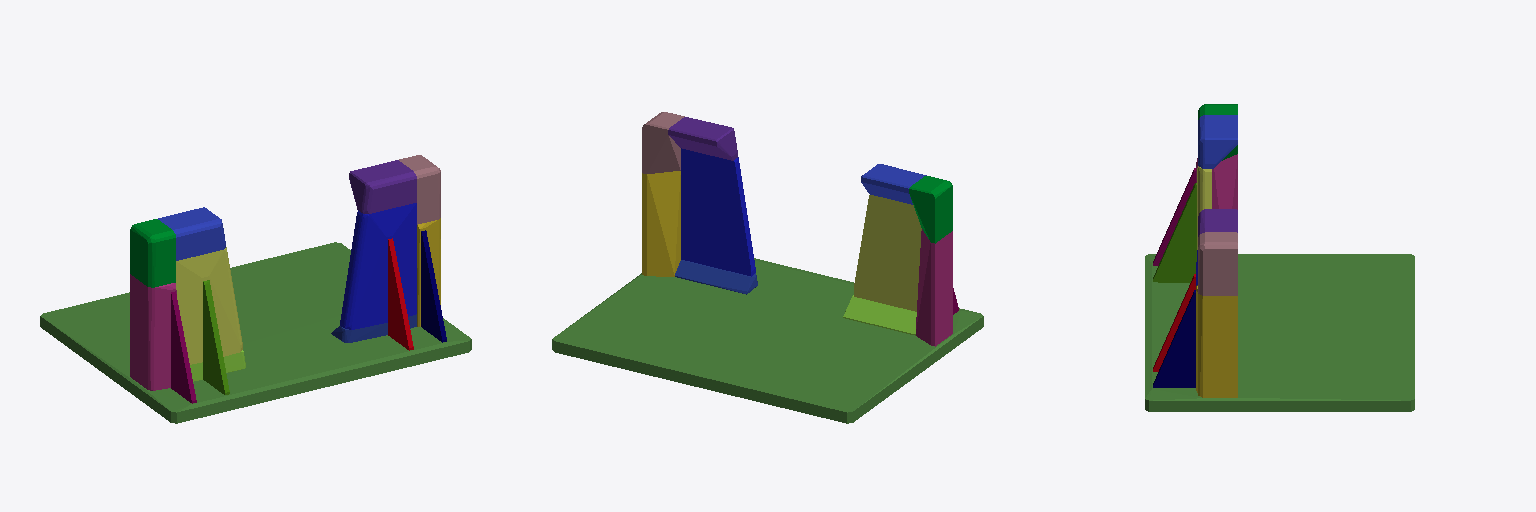
The model's file is Rack.obj.
3 views of the same model, side by side, from view 1: azimuth 30°, elevation 25°; view 2: azimuth 150°, elevation 25°; view 3: azimuth 270°, elevation 25° (orthographic).
Parts seen in each view (by area): view 1: Shape_IndexedFaceSet_Shape_IndexedFaceSet.101, Shape_IndexedFaceSet.009_Shape_IndexedFaceSet.110, Shape_IndexedFaceSet.005_Shape_IndexedFaceSet.106, Shape_IndexedFaceSet.004_Shape_IndexedFaceSet.105, Shape_IndexedFaceSet.010_Shape_IndexedFaceSet.111, Shape_IndexedFaceSet.001_Shape_IndexedFaceSet.102, Shape_IndexedFaceSet.006_Shape_IndexedFaceSet.107, Shape_IndexedFaceSet.011_Shape_IndexedFaceSet.112, Shape_IndexedFaceSet.002_Shape_IndexedFaceSet.103, Shape_IndexedFaceSet.007_Shape_IndexedFaceSet.108, Shape_IndexedFaceSet.013_Shape_IndexedFaceSet.114, Shape_IndexedFaceSet.003_Shape_IndexedFaceSet.104 (+3 smaller); view 2: Shape_IndexedFaceSet_Shape_IndexedFaceSet.101, Shape_IndexedFaceSet.009_Shape_IndexedFaceSet.110, Shape_IndexedFaceSet.005_Shape_IndexedFaceSet.106, Shape_IndexedFaceSet.008_Shape_IndexedFaceSet.109, Shape_IndexedFaceSet.004_Shape_IndexedFaceSet.105, Shape_IndexedFaceSet.001_Shape_IndexedFaceSet.102, Shape_IndexedFaceSet.010_Shape_IndexedFaceSet.111, Shape_IndexedFaceSet.002_Shape_IndexedFaceSet.103, Shape_IndexedFaceSet.012_Shape_IndexedFaceSet.113, Shape_IndexedFaceSet.006_Shape_IndexedFaceSet.107, Shape_IndexedFaceSet.014_Shape_IndexedFaceSet.115; view 3: Shape_IndexedFaceSet_Shape_IndexedFaceSet.101, Shape_IndexedFaceSet.008_Shape_IndexedFaceSet.109, Shape_IndexedFaceSet.002_Shape_IndexedFaceSet.103, Shape_IndexedFaceSet.011_Shape_IndexedFaceSet.112, Shape_IndexedFaceSet.007_Shape_IndexedFaceSet.108, Shape_IndexedFaceSet.006_Shape_IndexedFaceSet.107, Shape_IndexedFaceSet.004_Shape_IndexedFaceSet.105, Shape_IndexedFaceSet.010_Shape_IndexedFaceSet.111, Shape_IndexedFaceSet.005_Shape_IndexedFaceSet.106, Shape_IndexedFaceSet.003_Shape_IndexedFaceSet.104, Shape_IndexedFaceSet.013_Shape_IndexedFaceSet.114.
Part boxes in pixels (left/top/right/bottom): Shape_IndexedFaceSet_Shape_IndexedFaceSet.101: left=40, top=242, right=471, bottom=423; Shape_IndexedFaceSet.009_Shape_IndexedFaceSet.110: left=340, top=203, right=416, bottom=329; Shape_IndexedFaceSet.005_Shape_IndexedFaceSet.106: left=176, top=247, right=242, bottom=364; Shape_IndexedFaceSet.004_Shape_IndexedFaceSet.105: left=130, top=274, right=176, bottom=390; Shape_IndexedFaceSet.010_Shape_IndexedFaceSet.111: left=349, top=160, right=416, bottom=213; Shape_IndexedFaceSet.001_Shape_IndexedFaceSet.102: left=130, top=219, right=175, bottom=287; Shape_IndexedFaceSet.006_Shape_IndexedFaceSet.107: left=158, top=207, right=225, bottom=260; Shape_IndexedFaceSet.011_Shape_IndexedFaceSet.112: left=203, top=280, right=229, bottom=394; Shape_IndexedFaceSet.002_Shape_IndexedFaceSet.103: left=399, top=155, right=440, bottom=224; Shape_IndexedFaceSet.007_Shape_IndexedFaceSet.108: left=421, top=230, right=446, bottom=342; Shape_IndexedFaceSet.013_Shape_IndexedFaceSet.114: left=388, top=238, right=413, bottom=350; Shape_IndexedFaceSet.003_Shape_IndexedFaceSet.104: left=171, top=291, right=196, bottom=403; Shape_IndexedFaceSet_Shape_IndexedFaceSet.101: left=552, top=258, right=983, bottom=423; Shape_IndexedFaceSet.009_Shape_IndexedFaceSet.110: left=681, top=148, right=755, bottom=276; Shape_IndexedFaceSet.005_Shape_IndexedFaceSet.106: left=854, top=195, right=921, bottom=311; Shape_IndexedFaceSet.008_Shape_IndexedFaceSet.109: left=642, top=171, right=680, bottom=276; Shape_IndexedFaceSet.004_Shape_IndexedFaceSet.105: left=916, top=229, right=952, bottom=346; Shape_IndexedFaceSet.001_Shape_IndexedFaceSet.102: left=909, top=176, right=952, bottom=243; Shape_IndexedFaceSet.010_Shape_IndexedFaceSet.111: left=668, top=117, right=737, bottom=160; Shape_IndexedFaceSet.002_Shape_IndexedFaceSet.103: left=642, top=112, right=684, bottom=173; Shape_IndexedFaceSet.012_Shape_IndexedFaceSet.113: left=843, top=295, right=916, bottom=335; Shape_IndexedFaceSet.006_Shape_IndexedFaceSet.107: left=861, top=164, right=926, bottom=204; Shape_IndexedFaceSet.014_Shape_IndexedFaceSet.115: left=675, top=260, right=757, bottom=294; Shape_IndexedFaceSet_Shape_IndexedFaceSet.101: left=1145, top=254, right=1414, bottom=411; Shape_IndexedFaceSet.008_Shape_IndexedFaceSet.109: left=1196, top=285, right=1237, bottom=397; Shape_IndexedFaceSet.002_Shape_IndexedFaceSet.103: left=1198, top=232, right=1237, bottom=295; Shape_IndexedFaceSet.011_Shape_IndexedFaceSet.112: left=1153, top=183, right=1196, bottom=282; Shape_IndexedFaceSet.007_Shape_IndexedFaceSet.108: left=1153, top=290, right=1195, bottom=387; Shape_IndexedFaceSet.006_Shape_IndexedFaceSet.107: left=1198, top=115, right=1237, bottom=168; Shape_IndexedFaceSet.004_Shape_IndexedFaceSet.105: left=1196, top=154, right=1237, bottom=209; Shape_IndexedFaceSet.010_Shape_IndexedFaceSet.111: left=1198, top=209, right=1237, bottom=236; Shape_IndexedFaceSet.005_Shape_IndexedFaceSet.106: left=1197, top=166, right=1211, bottom=249; Shape_IndexedFaceSet.003_Shape_IndexedFaceSet.104: left=1153, top=168, right=1195, bottom=265; Shape_IndexedFaceSet.013_Shape_IndexedFaceSet.114: left=1153, top=274, right=1195, bottom=371.
Size of the model in its own units: 0.0904 by 0.0475 by 0.0704.